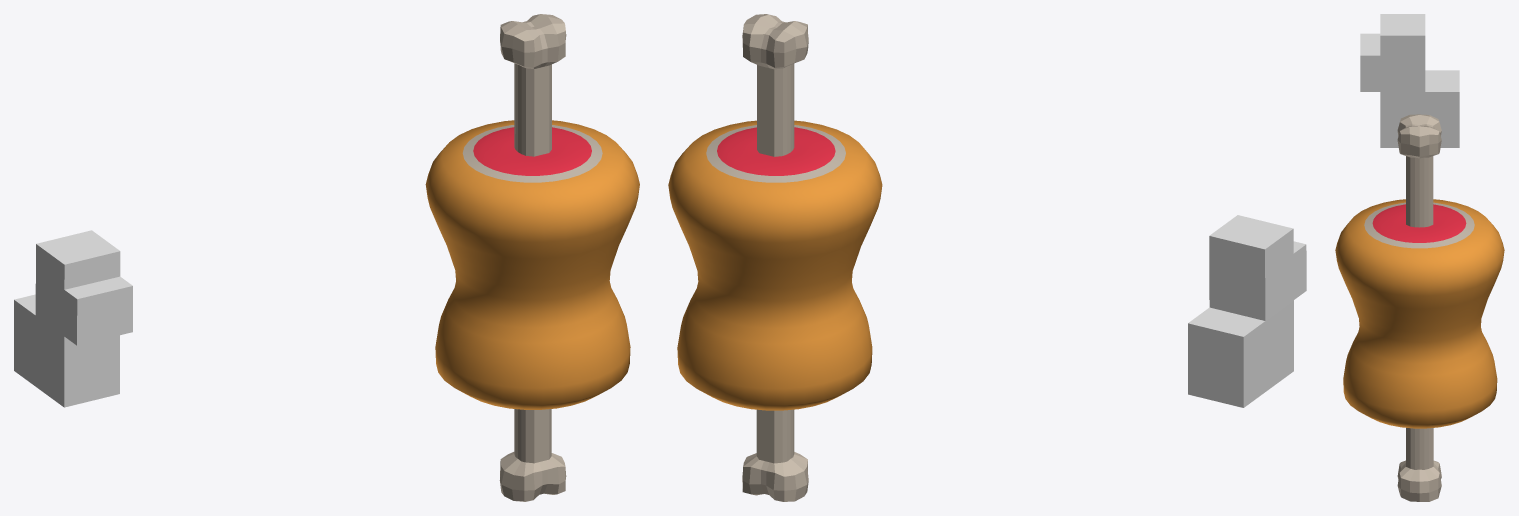
The model's file is pinata contour.fbx.
The picture shows the model from 3 angles, left to right: view 1: azimuth 30°, elevation 25°; view 2: azimuth 150°, elevation 25°; view 3: azimuth 270°, elevation 25°; orthographic projection. The views are drawn at different scales.
Visible parts, largest first — view 1: Cylinder, Cube; view 2: Cylinder, Cube; view 3: Cylinder, Cube.
Part boxes in pixels (<box>): Cylinder: <box>425,14,639,501</box>; Cube: <box>14,230,132,407</box>; Cylinder: <box>668,14,882,501</box>; Cube: <box>1188,215,1306,407</box>; Cylinder: <box>1335,114,1504,501</box>; Cube: <box>1360,14,1459,147</box>.
Bounding box in the file's own units: 704 × 545 × 223.
